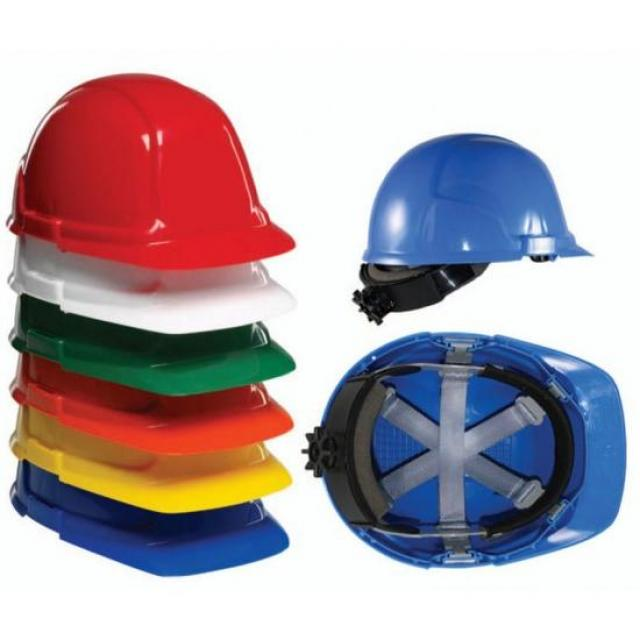Safety-Helmet: (0, 58, 303, 505), (296, 327, 640, 566), (354, 131, 598, 276)
